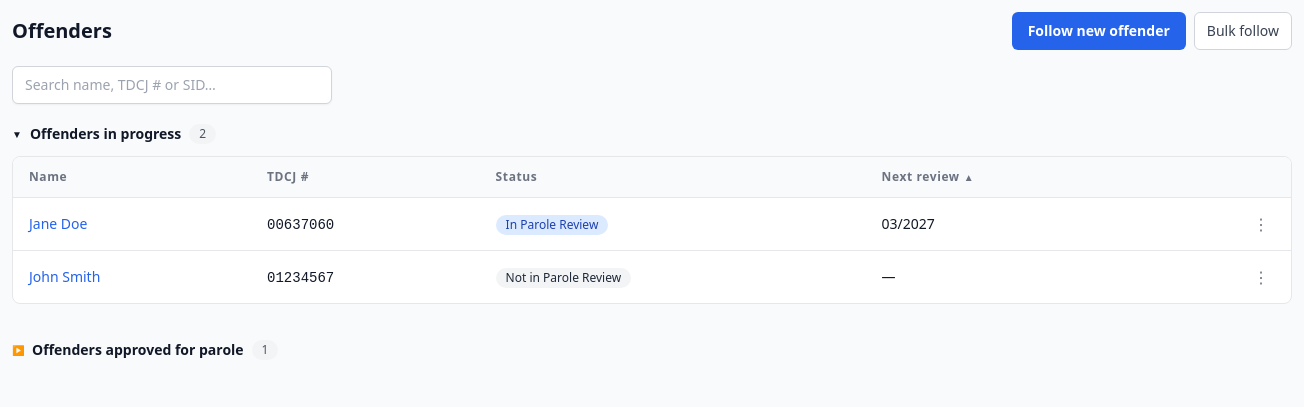
Test: OffenderList › shows a search-results count line
Type "jane" into the search field named "Search offenders".
click(172, 85); type("jane")  # box [12, 66, 332, 104]
Wait 300 ms
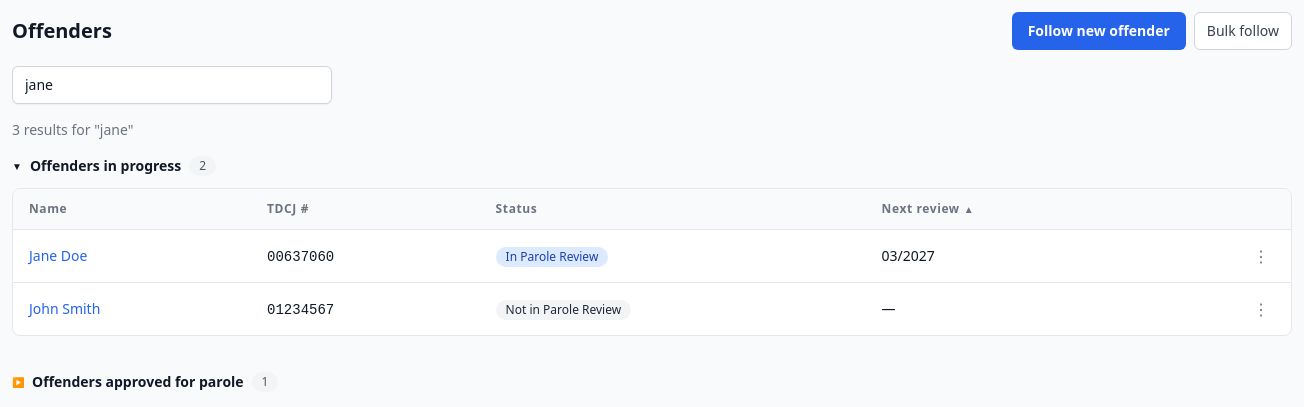
Check: the text "3 results for \"jane\"" is shown, box [12, 120, 134, 139]
